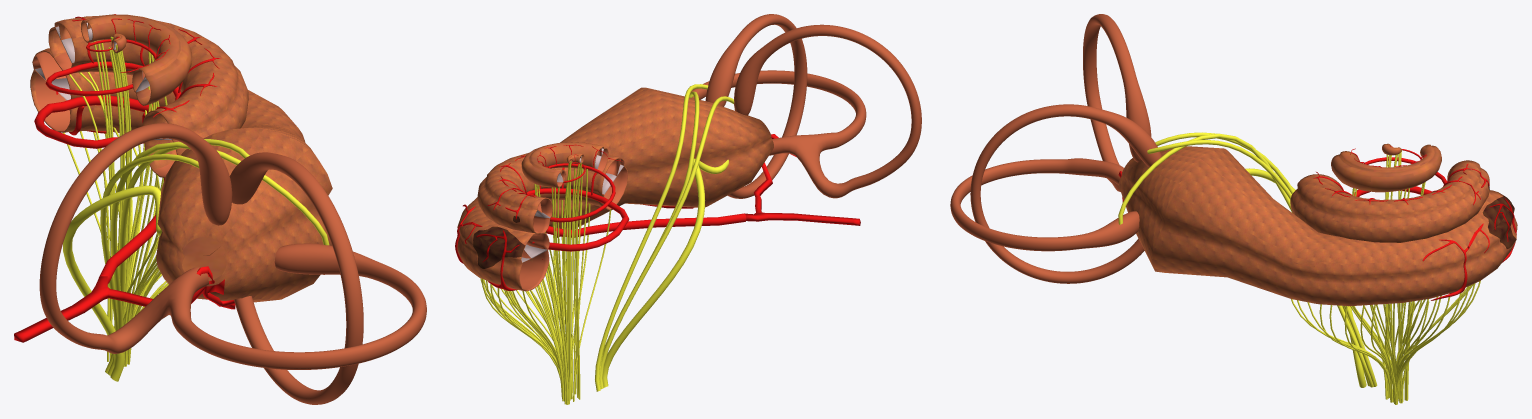
File: inner_ear.glb
3 renders of one model, left to right at view 1: azimuth 30°, elevation 25°; view 2: azimuth 150°, elevation 25°; view 3: azimuth 270°, elevation 25°, orthographic. The views are drawn at different scales.
Visible parts, largest first — view 1: Cochlea_9, Canal.Posterior.001_8, Canal.lateralis_7, Nerve.Cochlear_6, Nerve.Vestibular_5, Arteria_4, Arterioles_3; view 2: Cochlea_9, Canal.Posterior.001_8, Nerve.Cochlear_6, Nerve.Vestibular_5, Arteria_4, Canal.lateralis_7, Arterioles_3; view 3: Cochlea_9, Canal.Posterior.001_8, Canal.lateralis_7, Nerve.Cochlear_6, Nerve.Vestibular_5, Arterioles_3, Arteria_4.
Boxes of the visible parts, bbox=[...] form: Cochlea_9: bbox=[30, 14, 332, 302]; Canal.Posterior.001_8: bbox=[39, 123, 426, 369]; Canal.lateralis_7: bbox=[229, 152, 363, 404]; Nerve.Cochlear_6: bbox=[63, 36, 168, 366]; Nerve.Vestibular_5: bbox=[63, 139, 329, 381]; Arteria_4: bbox=[14, 39, 235, 342]; Arterioles_3: bbox=[56, 14, 220, 135]; Cochlea_9: bbox=[457, 87, 773, 291]; Canal.Posterior.001_8: bbox=[690, 24, 921, 198]; Nerve.Cochlear_6: bbox=[480, 161, 611, 404]; Nerve.Vestibular_5: bbox=[595, 84, 734, 391]; Arteria_4: bbox=[527, 134, 860, 251]; Canal.lateralis_7: bbox=[705, 14, 807, 198]; Arterioles_3: bbox=[455, 144, 621, 290]; Cochlea_9: bbox=[1118, 143, 1517, 306]; Canal.Posterior.001_8: bbox=[950, 14, 1151, 251]; Canal.lateralis_7: bbox=[970, 104, 1161, 283]; Nerve.Cochlear_6: bbox=[1291, 149, 1480, 404]; Nerve.Vestibular_5: bbox=[1118, 132, 1377, 387]; Arterioles_3: bbox=[1313, 145, 1516, 300]; Arteria_4: bbox=[1118, 149, 1447, 202].
Bounding box in the file's own units: 2.06 × 1.94 × 3.17.
7 materials, 3 textured.
